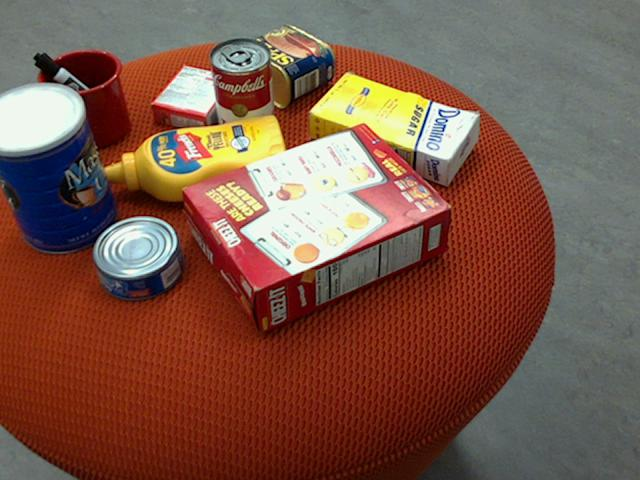cracker_box: (181, 122, 451, 332)
gelatin_box: (150, 64, 238, 132)
large_marker: (33, 53, 126, 130)
master_chef_can: (0, 83, 118, 254)
mug: (25, 50, 130, 149)
mustard_bottle: (105, 115, 289, 201)
potted_meat_can: (231, 25, 335, 109)
sugar_box: (308, 73, 481, 184)
tomato_soup_can: (209, 36, 274, 144)
tuna_fish_can: (92, 217, 184, 301)
